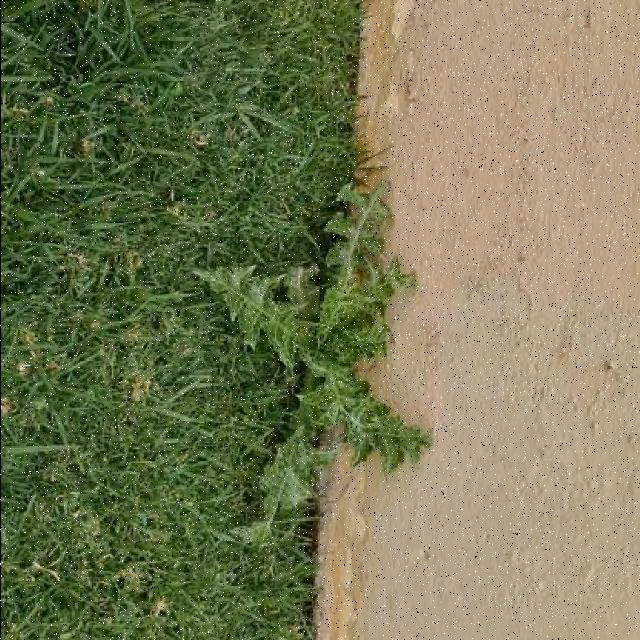weed: (196, 185, 429, 543)
